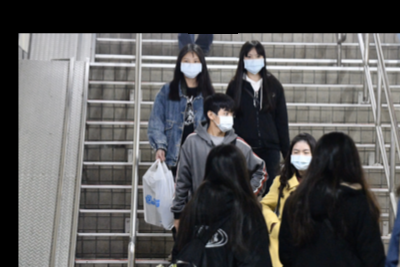with_mask: (290, 147, 313, 171), (179, 56, 203, 78), (243, 51, 265, 75), (215, 108, 234, 133)
